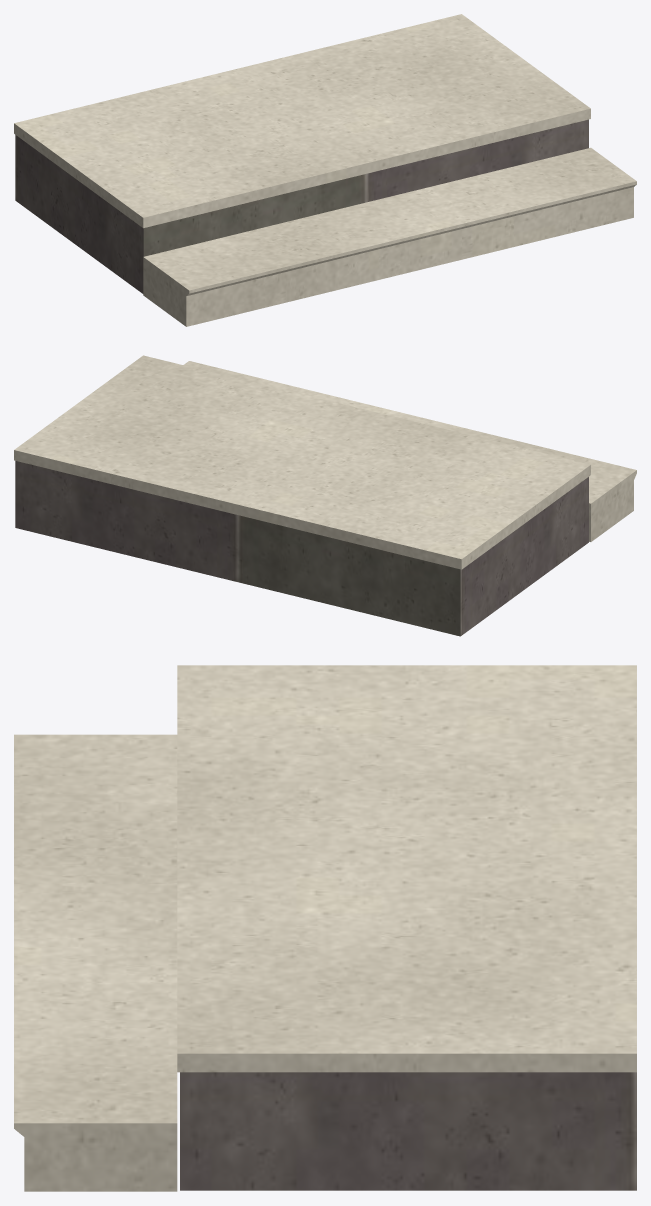
The model's file is o_steps.glb.
3 renders of one model, top to bottom at view 1: azimuth 30°, elevation 25°; view 2: azimuth 150°, elevation 25°; view 3: azimuth 270°, elevation 25°, orthographic. The views are drawn at different scales.
Visible parts, largest first — view 1: o_steps_trim, o_steps_plinth; view 2: o_steps_trim, o_steps_plinth; view 3: o_steps_trim, o_steps_plinth.
Boxes of the visible parts, x1,y1,x2,y2 form: o_steps_trim: [14, 14, 636, 326]; o_steps_plinth: [15, 119, 588, 293]; o_steps_trim: [14, 355, 636, 569]; o_steps_plinth: [15, 461, 588, 636]; o_steps_trim: [14, 665, 636, 1191]; o_steps_plinth: [180, 1072, 636, 1190].
Size of the model in its own units: 1.8 by 0.298 by 1.22.
Materials: 2 (2 with a texture image).
